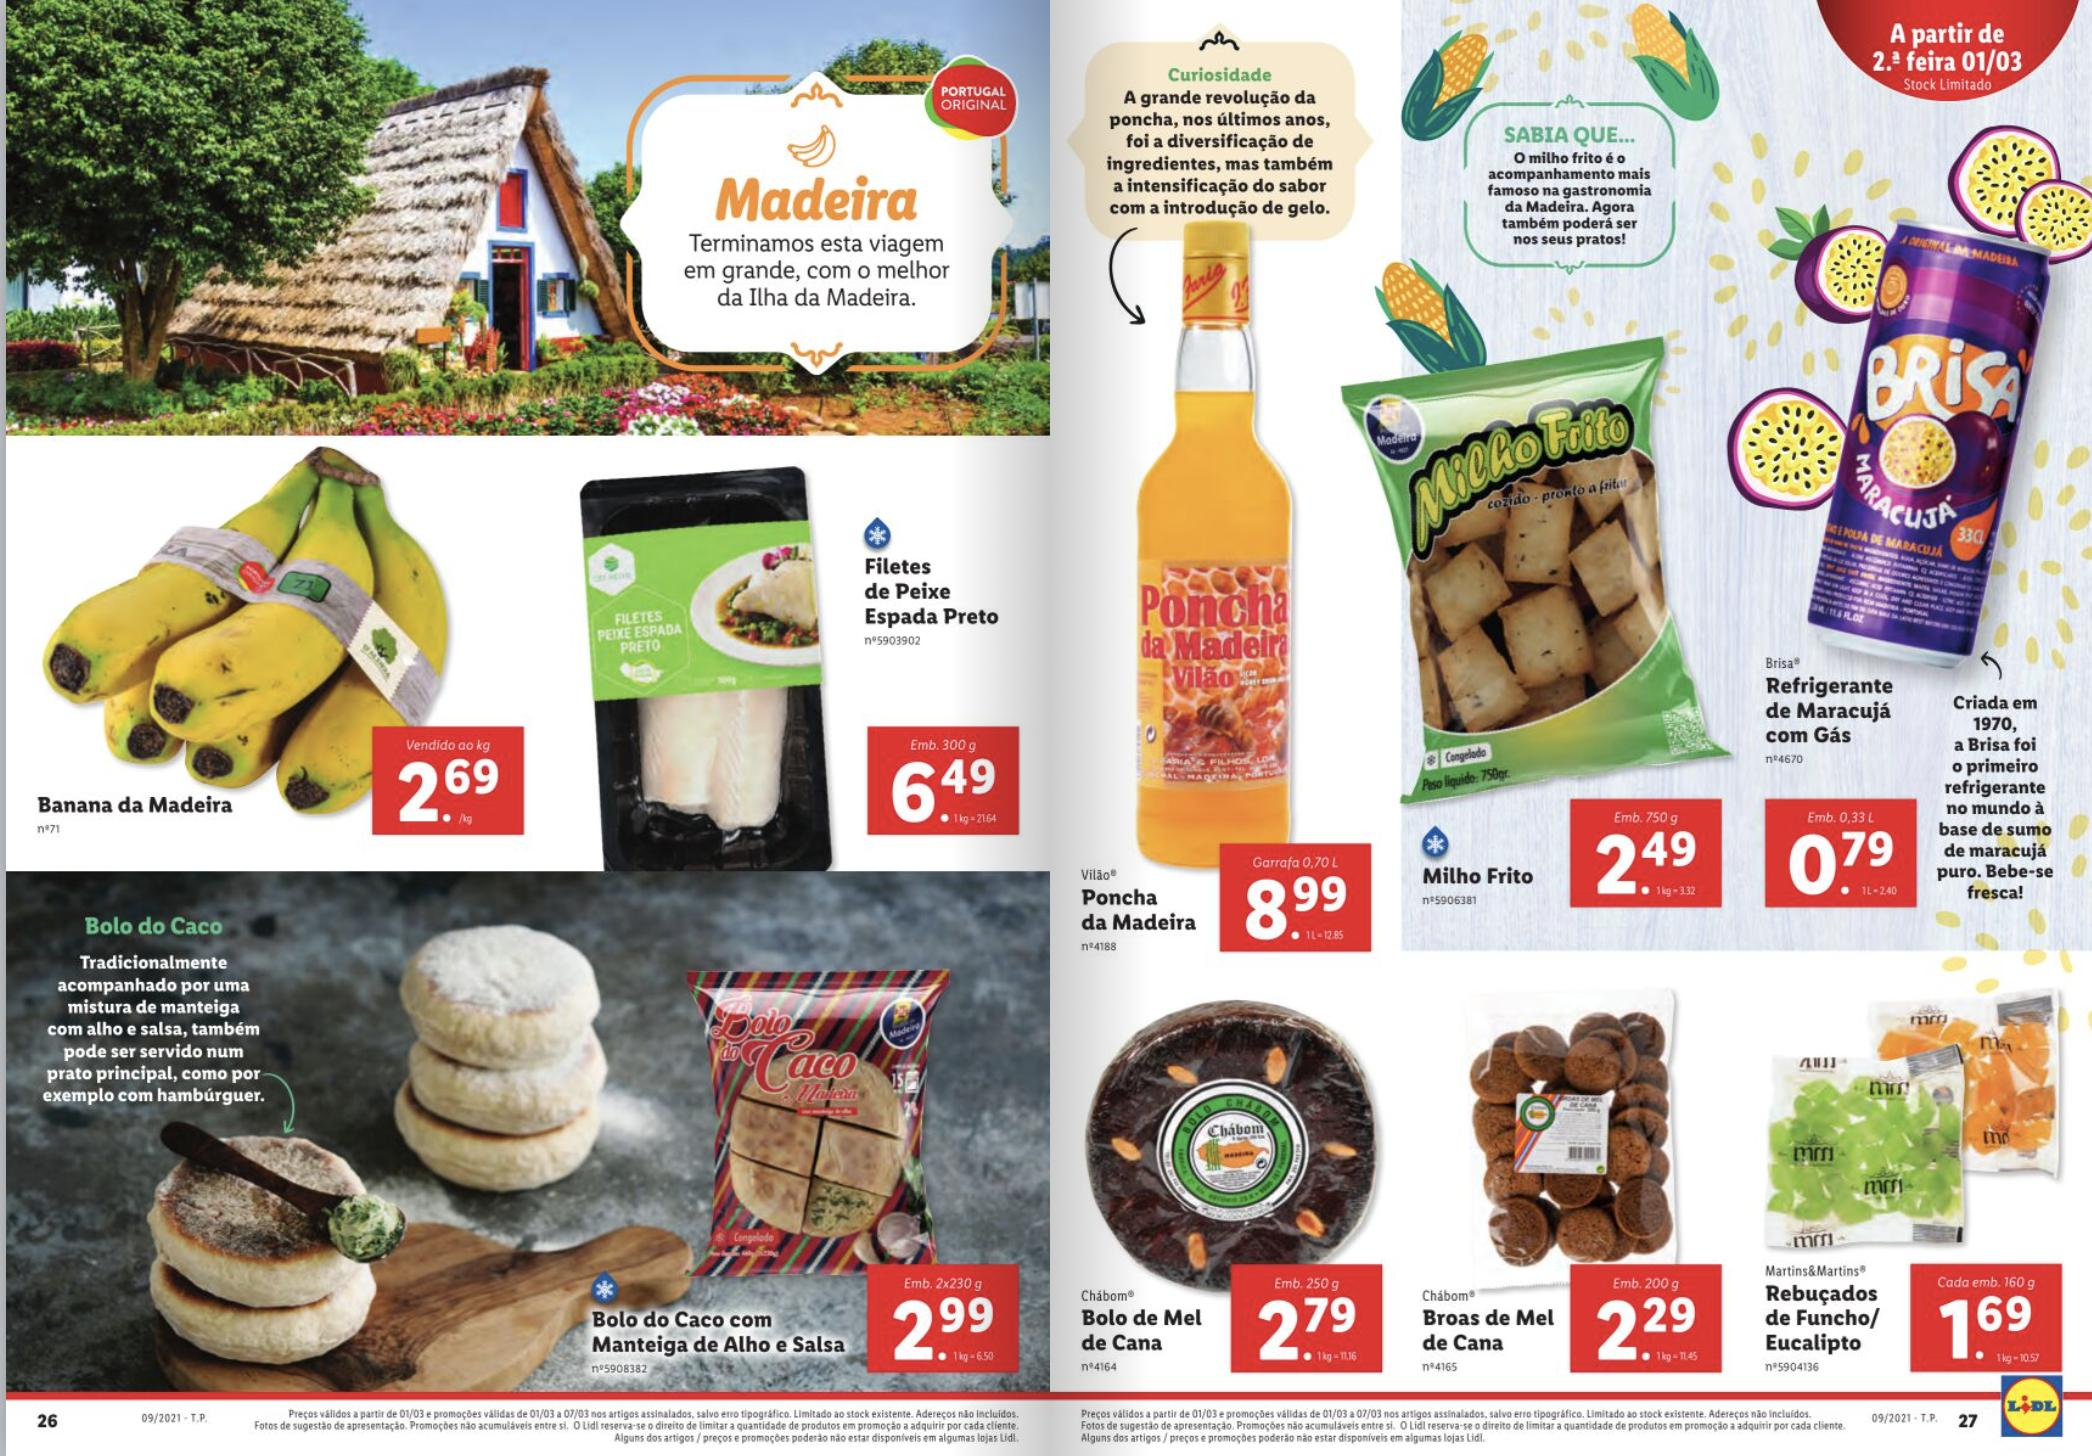name: (590, 1303, 855, 1367), (858, 553, 1011, 633), (1763, 672, 1904, 750), (1763, 1280, 1890, 1357), (1420, 1300, 1558, 1357), (29, 785, 243, 820), (1081, 1305, 1211, 1361), (1071, 885, 1202, 941), (1423, 865, 1537, 900)
price: (1776, 823, 1911, 904), (1249, 1288, 1366, 1367), (1925, 1284, 2036, 1367), (389, 755, 509, 831), (884, 1297, 1008, 1370), (1243, 873, 1354, 947), (1590, 827, 1707, 896), (1599, 1294, 1706, 1367), (887, 761, 1001, 827)
product: (1752, 194, 2071, 931), (22, 440, 545, 866), (1385, 343, 1745, 941), (583, 917, 1040, 1380), (545, 453, 1043, 865), (1056, 439, 1388, 958), (1405, 963, 1734, 1397), (1742, 973, 2087, 1381), (1075, 976, 1402, 1381)
